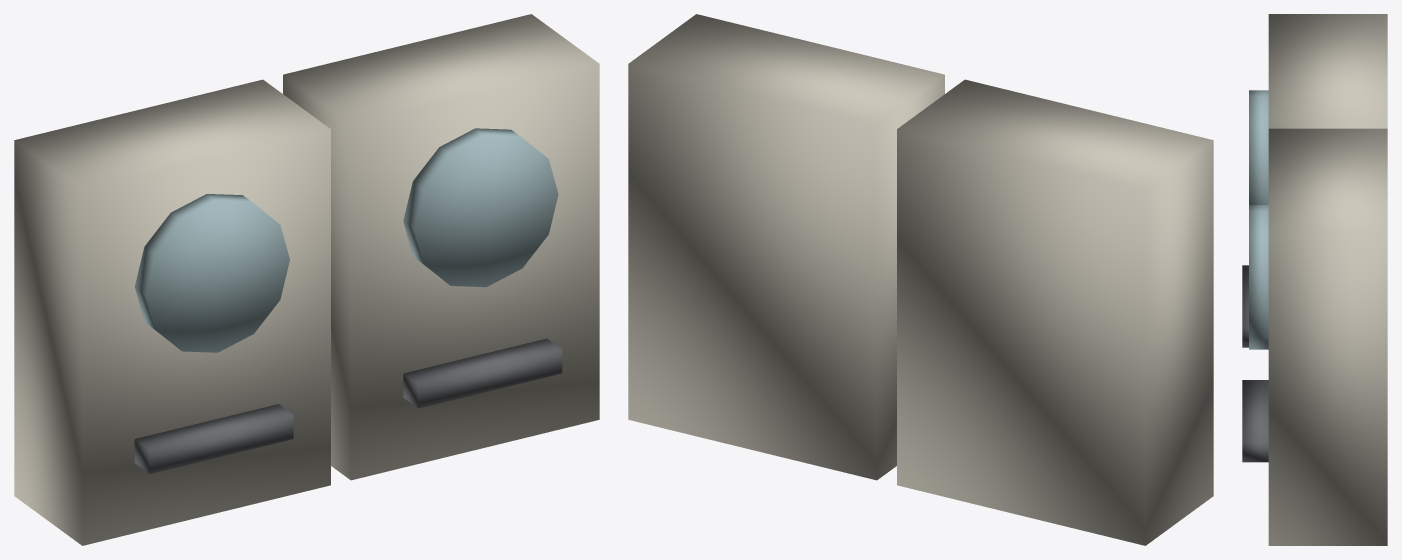
File: employee_punch_clock__cluster.glb
3 views of the same model, side by side, from view 1: azimuth 30°, elevation 25°; view 2: azimuth 150°, elevation 25°; view 3: azimuth 270°, elevation 25° (orthographic). The views are drawn at different scales.
Parts seen in each view (by area): view 1: world; view 2: world; view 3: world.
Part boxes in pixels (box(x1,y1,x2,y2)): world: box(14, 14, 599, 545); world: box(628, 14, 1213, 545); world: box(1242, 14, 1387, 545).
Bounding box in the file's own units: 0.7904 × 0.52 × 0.22.
